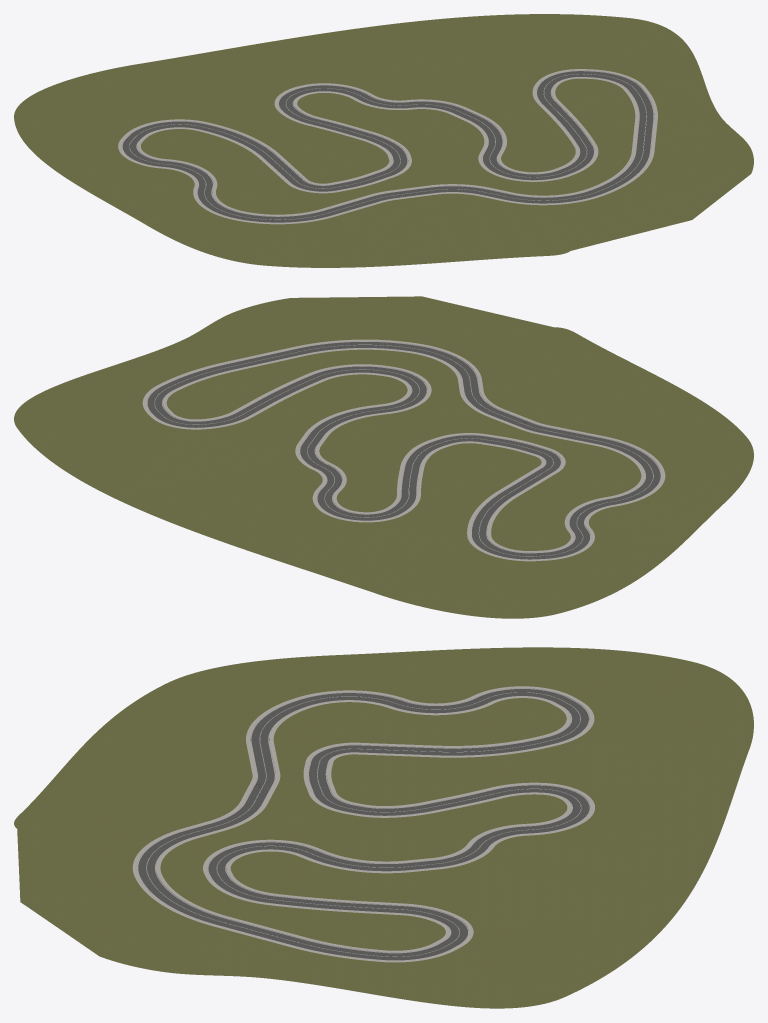
The model's file is Track02.fbx.
The picture shows the model from 3 angles, top to bottom: view 1: azimuth 30°, elevation 25°; view 2: azimuth 150°, elevation 25°; view 3: azimuth 270°, elevation 25°; orthographic projection. The views are drawn at different scales.
Visible parts, largest first — view 1: Terrain_2Node, TerrainNode, Terrain_1Node, Terrain_3Node, Roads_2Node, RoadsNode, Roads_1Node, Roads_3Node; view 2: Terrain_2Node, TerrainNode, Terrain_1Node, Terrain_3Node, Roads_2Node, RoadsNode, Roads_1Node, Roads_3Node; view 3: Terrain_2Node, TerrainNode, Terrain_1Node, Terrain_3Node, Roads_2Node, RoadsNode, Roads_1Node, Roads_3Node.
Part boxes in pixels (box(x1,y1,x2,y2)): Terrain_2Node: box(291, 61, 753, 263); TerrainNode: box(156, 14, 696, 159); Terrain_1Node: box(14, 61, 290, 203); Terrain_3Node: box(110, 159, 431, 267); Roads_2Node: box(324, 77, 657, 209); RoadsNode: box(274, 69, 629, 141); Roads_1Node: box(118, 119, 286, 182); Roads_3Node: box(193, 160, 358, 224); Terrain_2Node: box(74, 296, 653, 483); TerrainNode: box(14, 379, 503, 588); Terrain_1Node: box(361, 484, 695, 618); Terrain_3Node: box(504, 374, 753, 530); Roads_2Node: box(145, 339, 575, 464); RoadsNode: box(142, 396, 424, 522); Roads_1Node: box(467, 485, 605, 561); Roads_3Node: box(508, 430, 665, 508); Terrain_2Node: box(14, 759, 416, 1001); TerrainNode: box(416, 759, 745, 1008); Terrain_1Node: box(416, 647, 753, 759); Terrain_3Node: box(71, 651, 416, 759); Roads_2Node: box(132, 759, 416, 962); RoadsNode: box(416, 782, 594, 961); Roads_1Node: box(416, 686, 594, 757); Roads_3Node: box(246, 690, 416, 759).
Size of the model in its own units: 409 by 354 by 0.1584.
